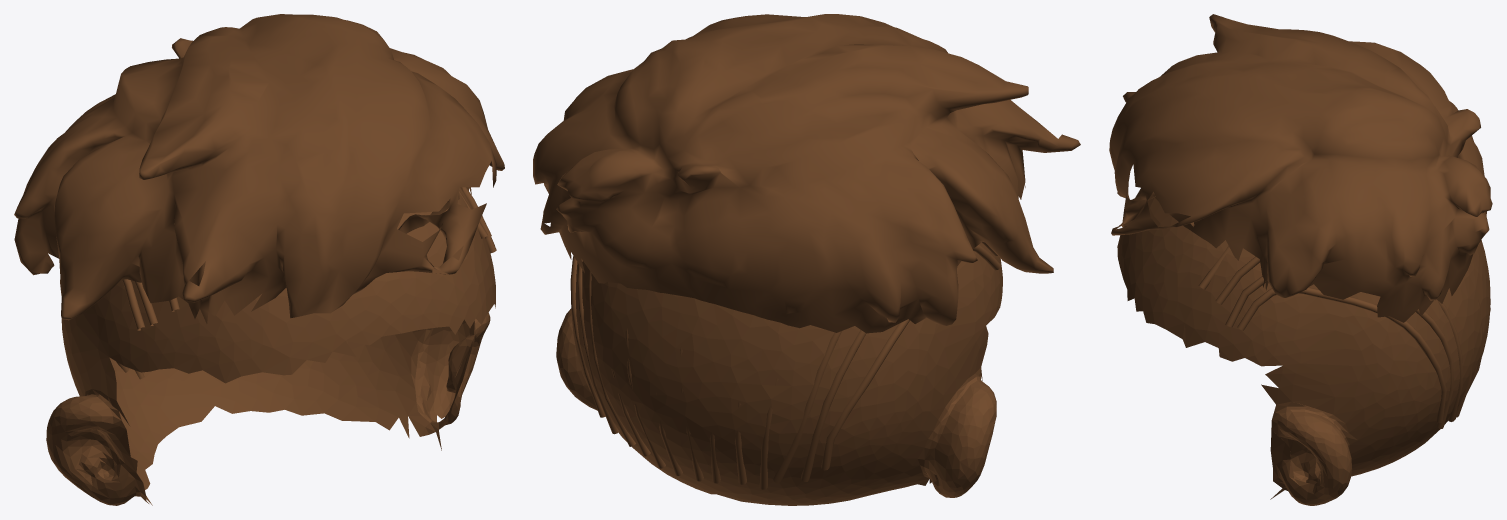
The model's file is short-fringe.glb.
The picture shows the model from 3 angles, left to right: view 1: azimuth 30°, elevation 25°; view 2: azimuth 150°, elevation 25°; view 3: azimuth 270°, elevation 25°; orthographic projection. The views are drawn at different scales.
Parts seen in each view (by area): view 1: Hair, HairScalp, HairPulledRootStrands; view 2: Hair, HairScalp, HairPulledRootStrands; view 3: Hair, HairScalp, HairPulledRootStrands.
Part boxes in pixels (x1,y1,x2,y2): Hair: (14, 14, 504, 323); HairScalp: (46, 187, 495, 505); HairPulledRootStrands: (60, 187, 496, 379); Hair: (533, 14, 1080, 333); HairScalp: (556, 242, 1002, 505); HairPulledRootStrands: (570, 242, 1000, 489); Hair: (1109, 14, 1492, 322); HairScalp: (1117, 187, 1490, 505); HairPulledRootStrands: (1190, 222, 1490, 428).
Bounding box in the file's own units: 0.5459 × 0.4794 × 0.4446.
